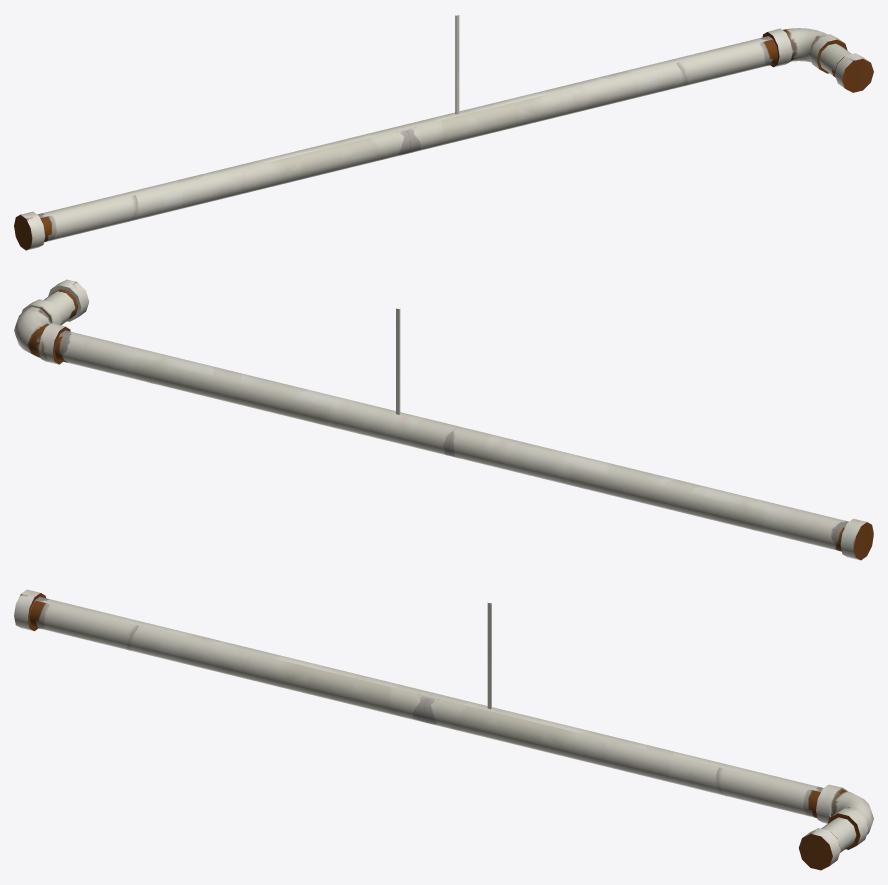
3 renders of one model, top to bottom at view 1: azimuth 30°, elevation 25°; view 2: azimuth 150°, elevation 25°; view 3: azimuth 330°, elevation 25°, orthographic. The views are drawn at different scales.
Visible parts, largest first — view 1: body0_model0_lod0_mesh0; view 2: body0_model0_lod0_mesh0; view 3: body0_model0_lod0_mesh0.
Part boxes in pixels (x1,y1,x2,y2): body0_model0_lod0_mesh0: [14, 15, 873, 250]; body0_model0_lod0_mesh0: [14, 279, 873, 560]; body0_model0_lod0_mesh0: [14, 589, 873, 870].
Bounding box in the file's own units: 126 × 19.02 × 15.6.
1 material, 1 textured.
